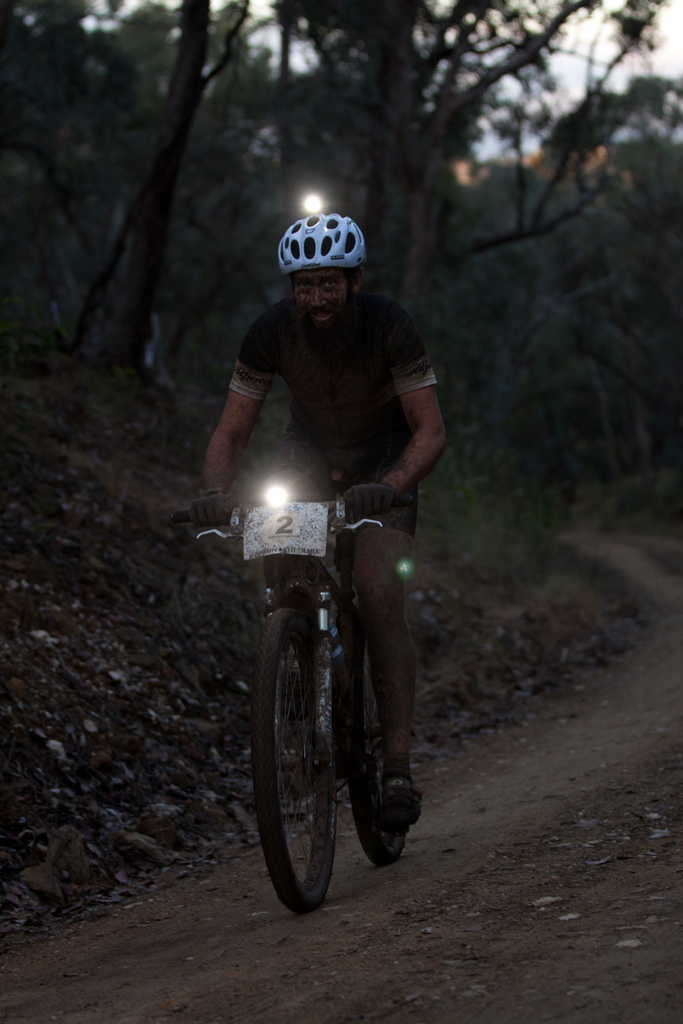Tree: (0, 0, 682, 505)
